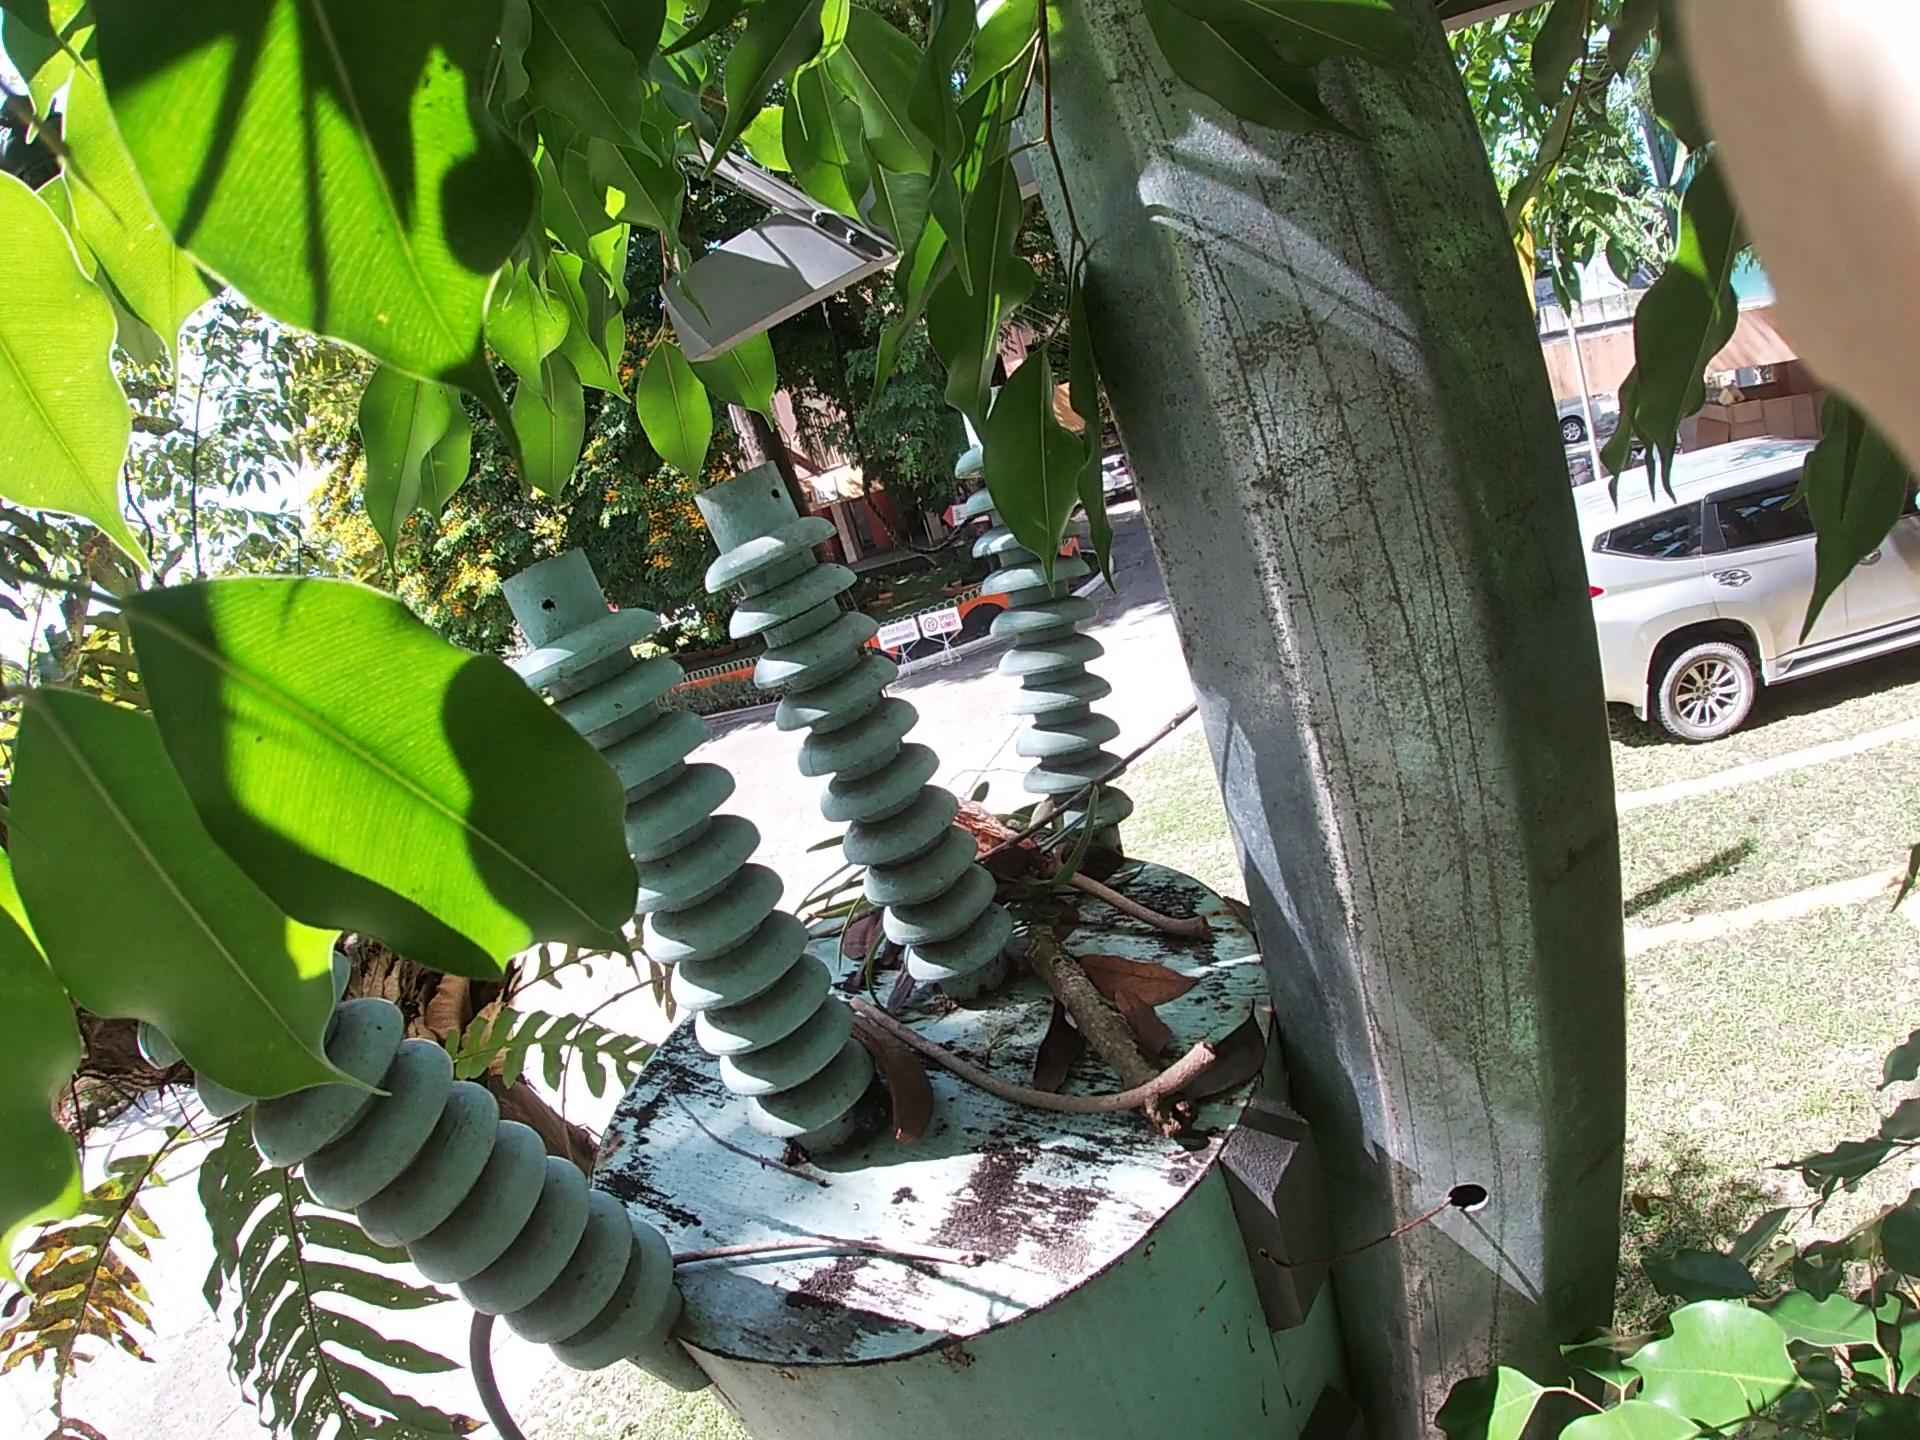leaf: (1067, 930, 1205, 1172)
tree branch: (841, 569, 1469, 961), (1048, 906, 1271, 1257), (819, 977, 1194, 1162), (993, 765, 1332, 957), (494, 1242, 1110, 1293)
